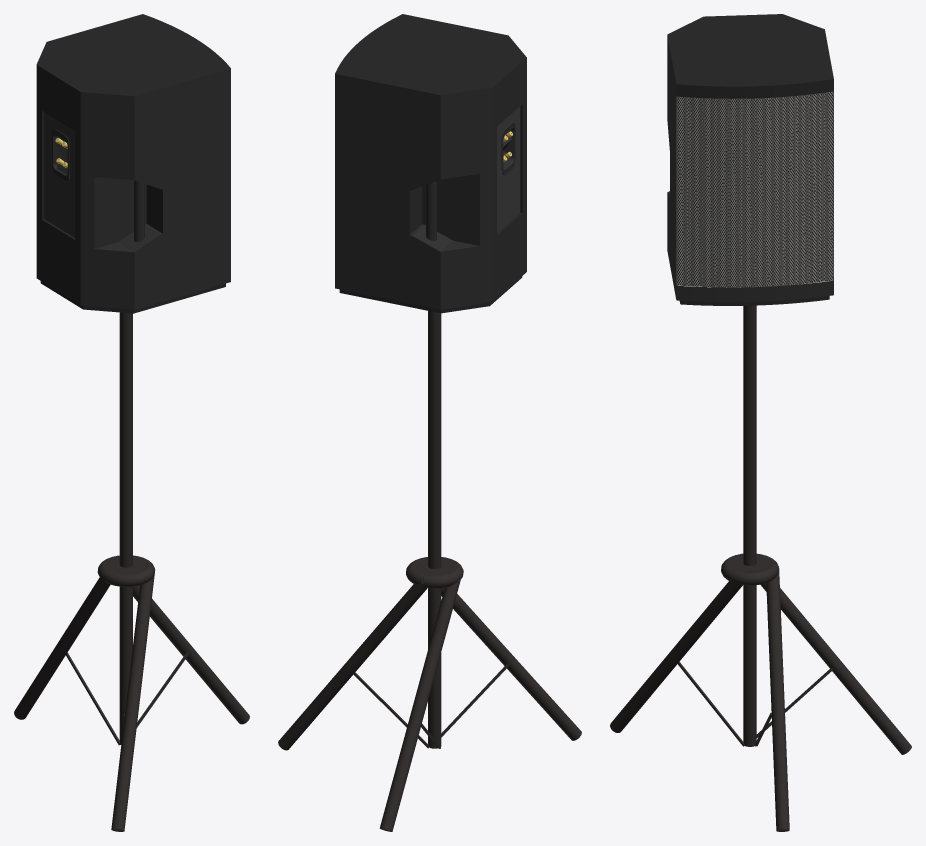
Rendered from speaker-tripod.glb.
The picture shows the model from 3 angles, left to right: view 1: azimuth 30°, elevation 25°; view 2: azimuth 150°, elevation 25°; view 3: azimuth 270°, elevation 25°; orthographic projection.
Parts seen in each view (by area): view 1: Object_2; view 2: Object_2; view 3: Object_2, Object_8.
Boxes of the visible parts, left/top/right/bottom form: Object_2: left=14, top=14, right=249, bottom=831; Object_2: left=278, top=14, right=581, bottom=831; Object_2: left=610, top=14, right=911, bottom=831; Object_8: left=676, top=91, right=833, bottom=287.
Size of the model in its own units: 0.8271 by 2.56 by 0.977.
3 materials, 3 textured.
